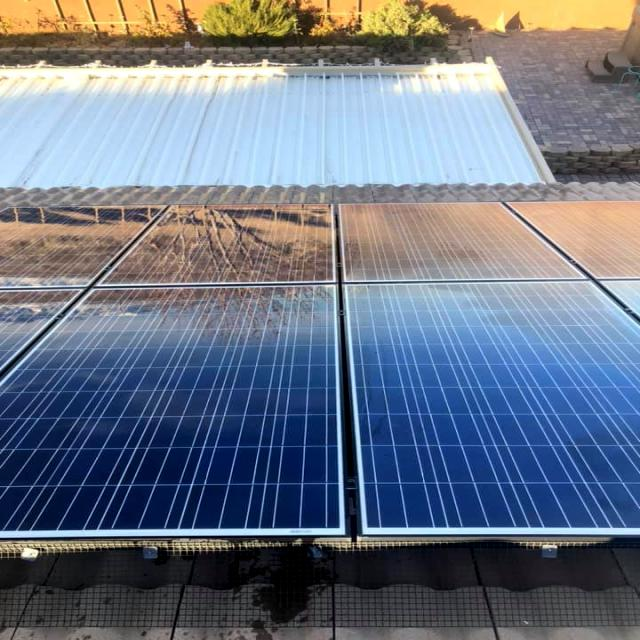crack: (0, 272, 405, 586), (297, 262, 640, 592), (317, 196, 612, 298), (94, 200, 383, 296)
